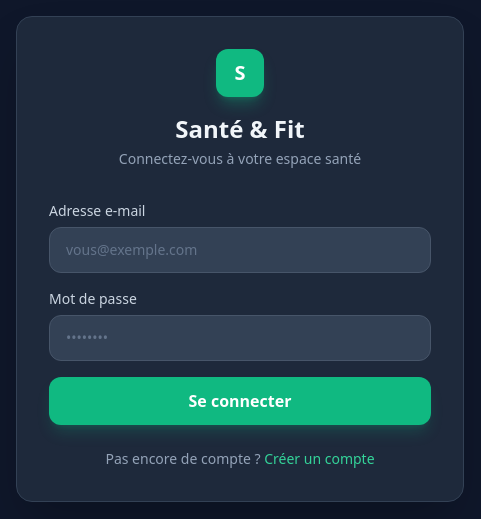
LoginPage › Connexion réussie › affiche l'état de chargement pendant la connexion
The image size is (481, 519).
Step 1. Type "test@test.com" into the field labelled "Adresse e-mail" → (240, 250), box [49,227,431,273]
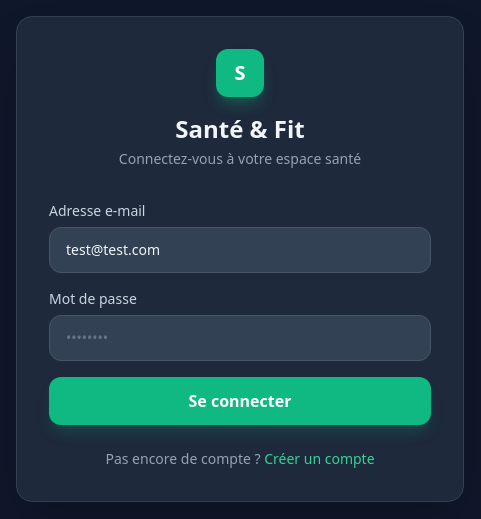
Step 2. Type "password123" into the password field labelled "Mot de passe" → (240, 338), box [49,315,431,361]
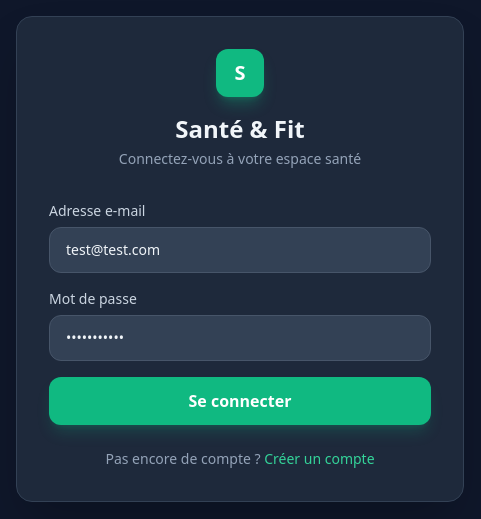
Step 3. Click the button "Se connecter" → (240, 401), box [49,377,431,425]
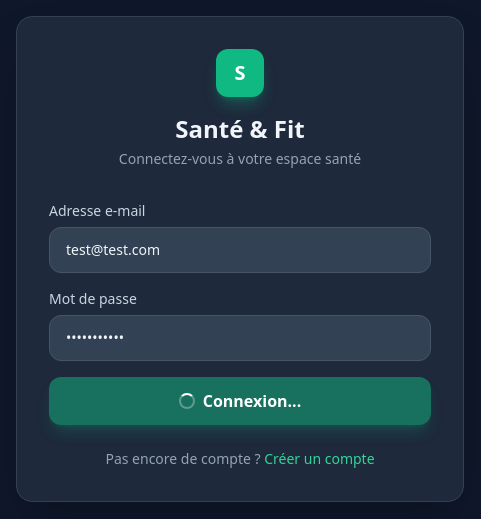
Now the text "Connexion..." is shown, box [203,389,301,413]
